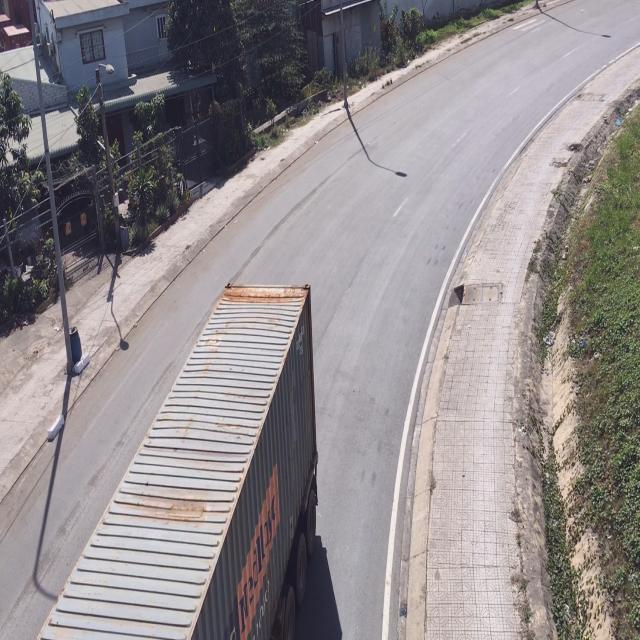truck: (34, 282, 318, 640)
